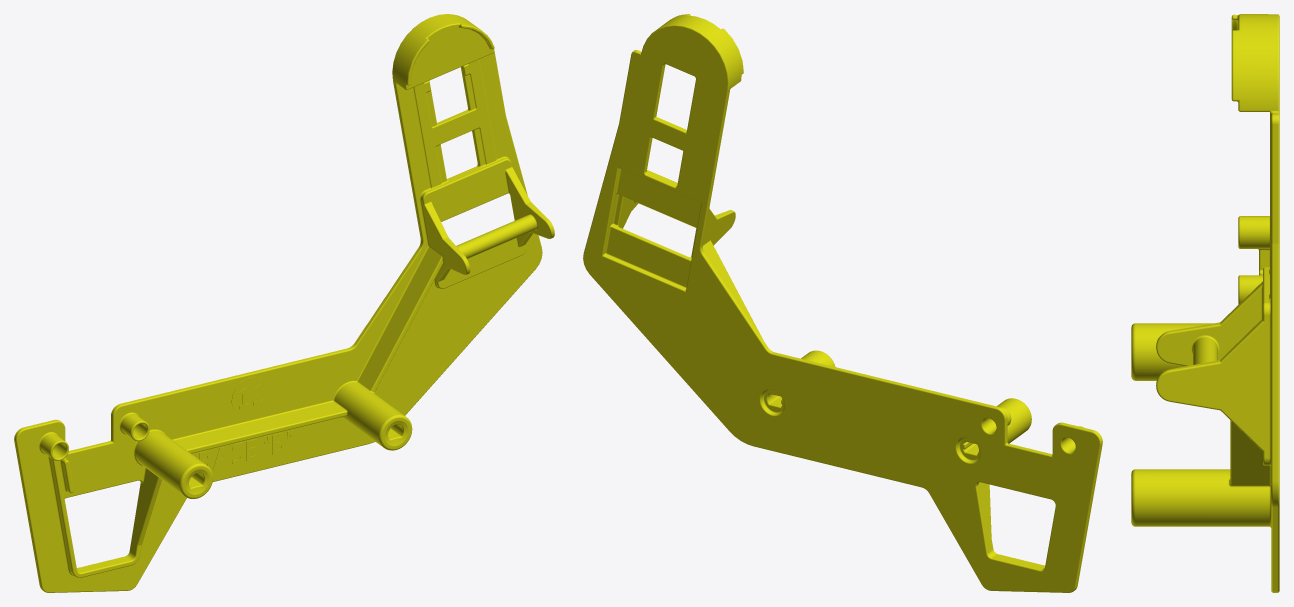
3 renders of one model, left to right at view 1: azimuth 30°, elevation 25°; view 2: azimuth 150°, elevation 25°; view 3: azimuth 270°, elevation 25°, orthographic. The views are drawn at different scales.
Parts seen in each view (by area): view 1: PART 11 BASE B; view 2: PART 11 BASE B; view 3: PART 11 BASE B.
Boxes of the visible parts, bbox=[...] form: PART 11 BASE B: bbox=[14, 14, 554, 592]; PART 11 BASE B: bbox=[583, 14, 1102, 592]; PART 11 BASE B: bbox=[1131, 14, 1279, 592].
Bounding box in the file's own units: 17.64 × 15.96 × 2.86.
